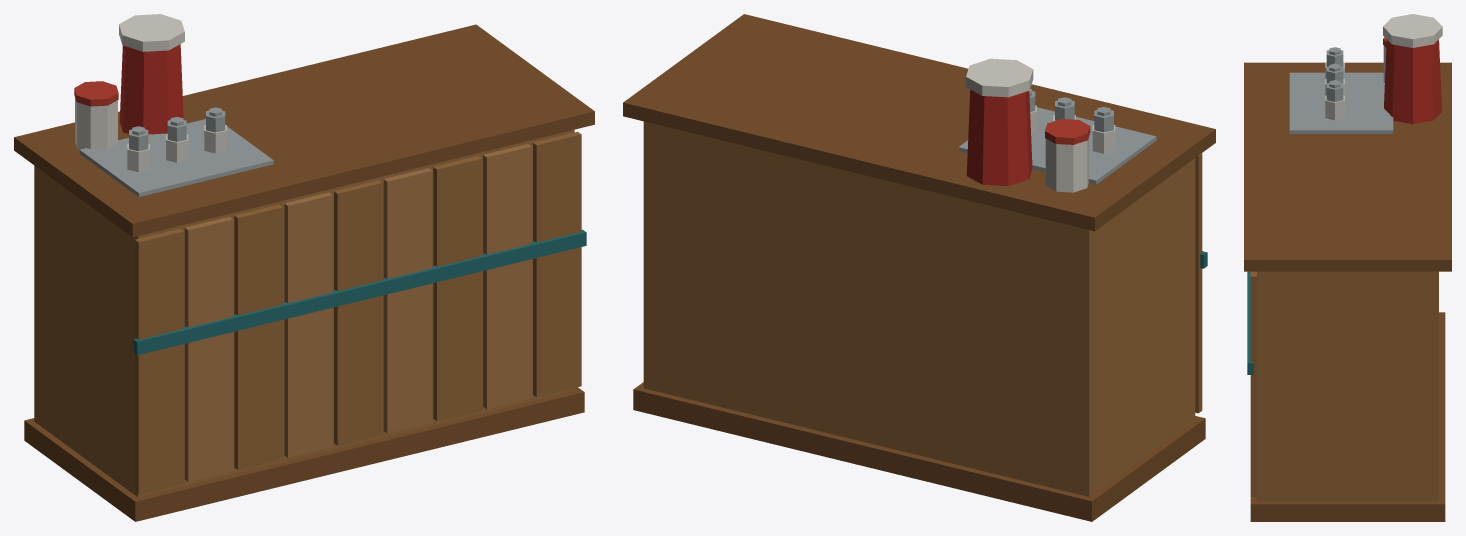
The model's file is quay_cafe.glb.
3 views of the same model, side by side, from view 1: azimuth 30°, elevation 25°; view 2: azimuth 150°, elevation 25°; view 3: azimuth 270°, elevation 25° (orthographic). The views are drawn at different scales.
Parts seen in each view (by area): view 1: quay_cafe; view 2: quay_cafe; view 3: quay_cafe.
Boxes of the visible parts, x1,y1,x2,y2 form: quay_cafe: (14,14,594,521); quay_cafe: (623,14,1215,521); quay_cafe: (1244,14,1451,521).
Size of the model in its own units: 1.44 by 1.19 by 0.64.
